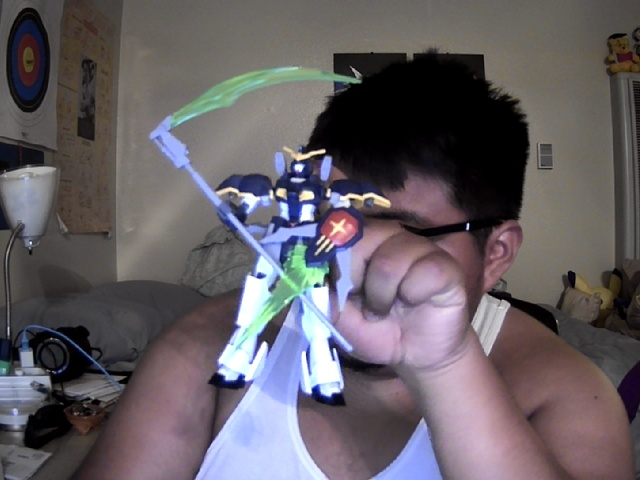Deathsythe: (148, 65, 392, 407)
